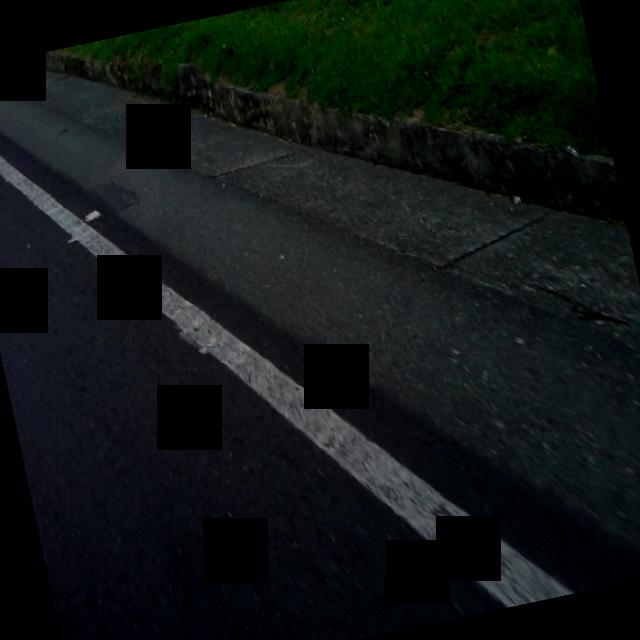DITCH: (0, 0, 640, 640), (0, 58, 640, 640), (0, 63, 640, 640)
